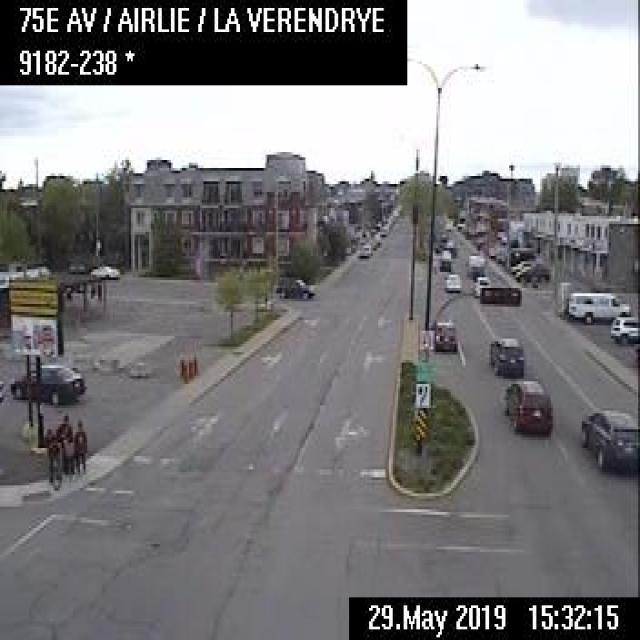construction: (186, 354, 193, 375), (181, 358, 187, 382), (176, 356, 182, 378), (192, 352, 198, 373)
pedestrian: (55, 412, 74, 476), (43, 422, 58, 486), (72, 415, 88, 473)
vehicle: (578, 405, 638, 472), (9, 361, 86, 402), (501, 376, 553, 434), (566, 287, 629, 322), (488, 333, 522, 376), (431, 317, 458, 352), (280, 274, 315, 298), (608, 313, 638, 341), (514, 261, 549, 282), (87, 261, 120, 280), (464, 250, 486, 274), (443, 269, 462, 291), (472, 272, 491, 291), (436, 250, 454, 270), (510, 259, 536, 272), (444, 237, 456, 254), (357, 243, 371, 257), (364, 237, 375, 248)
